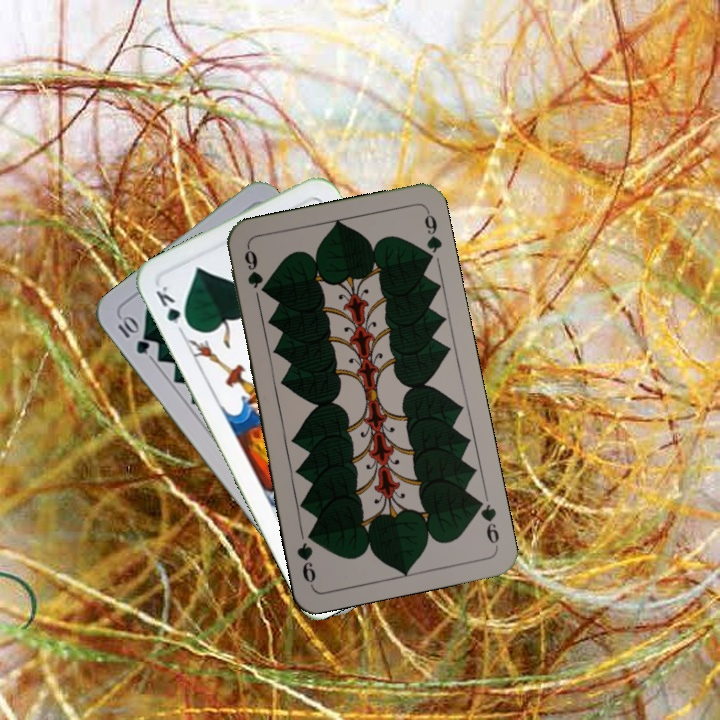G10: (113, 312, 153, 357)
G9: (470, 493, 502, 550), (240, 244, 264, 303)
GK: (151, 282, 193, 332)
